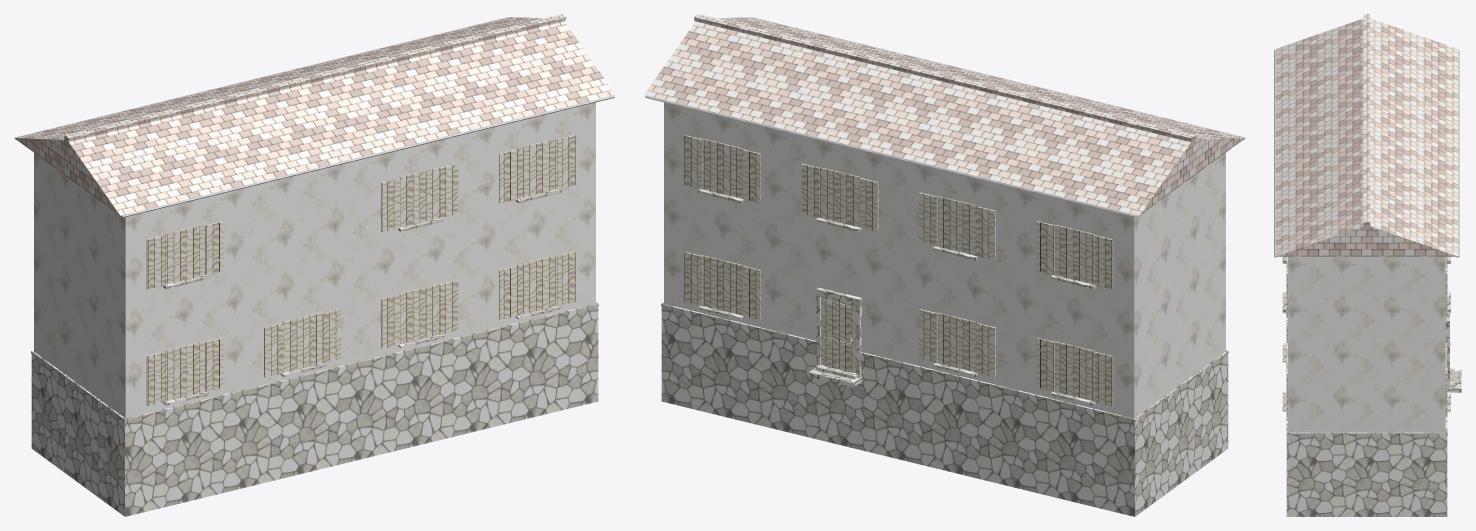
3 views of the same model, side by side, from view 1: azimuth 30°, elevation 25°; view 2: azimuth 150°, elevation 25°; view 3: azimuth 270°, elevation 25° (orthographic). The views are drawn at different scales.
Parts seen in each view (by area): view 1: b1096729687; view 2: b1096729687; view 3: b1096729687.
Boxes of the visible parts, <box> form: b1096729687: <box>14,14,615,516</box>; b1096729687: <box>644,14,1245,516</box>; b1096729687: <box>1274,14,1461,516</box>.
Bounding box in the file's own units: 13.82 × 9.27 × 5.26.
16 materials, 16 textured.
